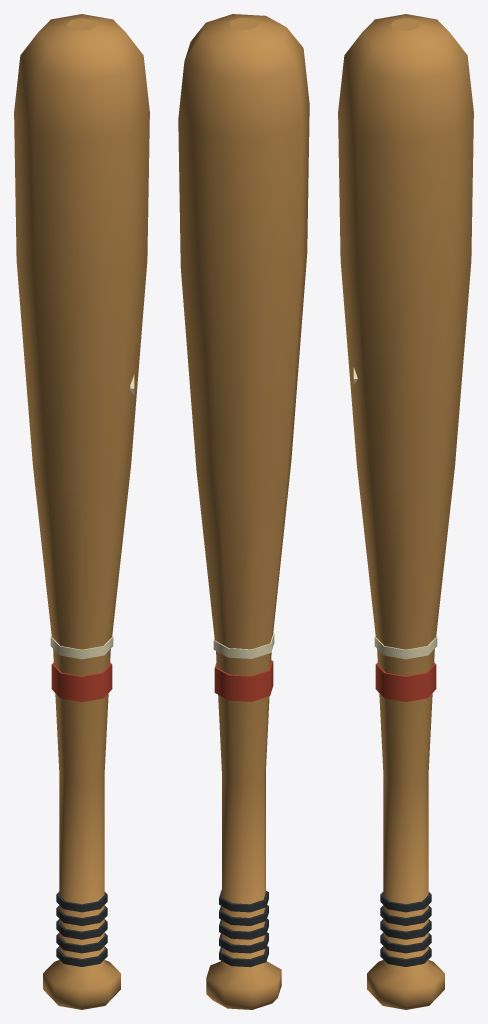
The model's file is baseball_bat_lod2.glb.
The picture shows the model from 3 angles, left to right: view 1: azimuth 90°, elevation 25°; view 2: azimuth 150°, elevation 25°; view 3: azimuth 270°, elevation 25°; orthographic projection.
Visible parts, largest first — view 1: baseball_bat; view 2: baseball_bat; view 3: baseball_bat.
Part boxes in pixels (box(x1,y1,x2,y2)): baseball_bat: box(14, 14, 149, 1009); baseball_bat: box(178, 14, 309, 1009); baseball_bat: box(338, 14, 473, 1009).
Bounding box in the file's own units: 0.108 × 0.852 × 0.108.
